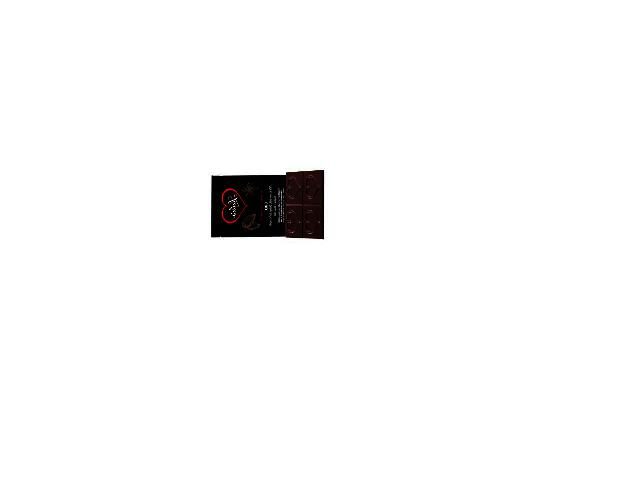chocolate: (210, 164, 328, 241)
